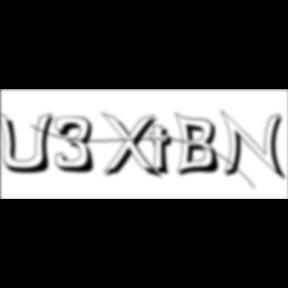3: (55, 116, 101, 176)
B: (175, 111, 225, 179)
N: (220, 109, 288, 183)
U: (1, 110, 60, 176)
X: (101, 112, 165, 182)
t: (148, 124, 180, 179)
